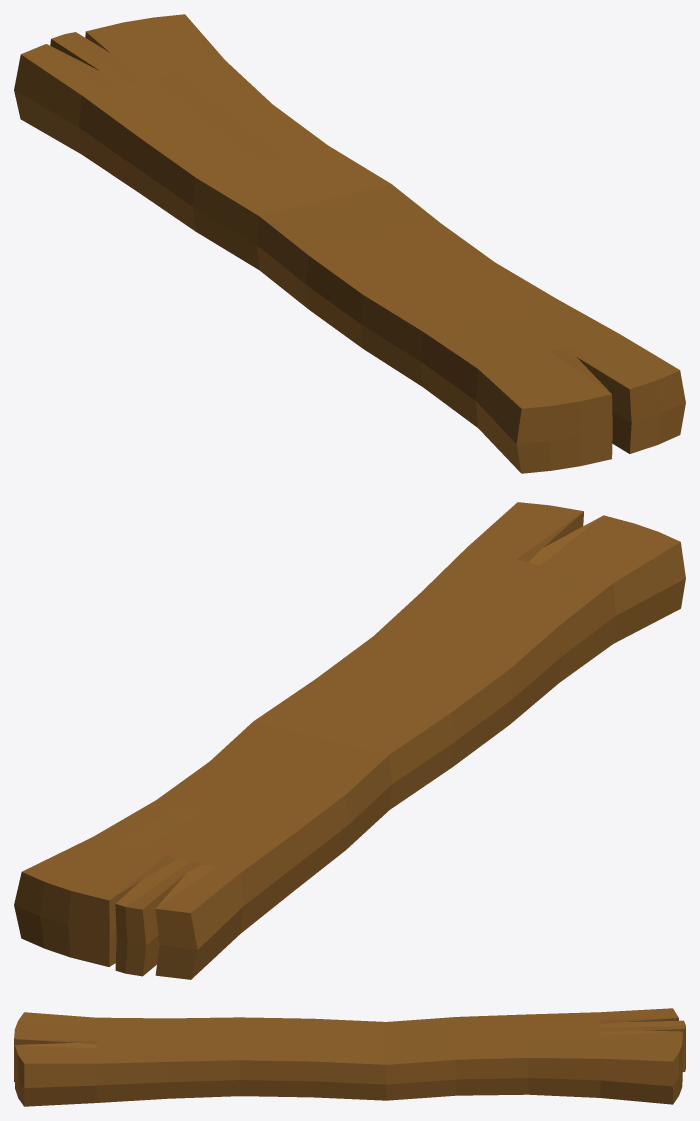
The model's file is plank_3.fbx.
The picture shows the model from 3 angles, top to bottom: view 1: azimuth 30°, elevation 25°; view 2: azimuth 150°, elevation 25°; view 3: azimuth 270°, elevation 25°; orthographic projection. The views are drawn at different scales.
Parts seen in each view (by area): view 1: Cube; view 2: Cube; view 3: Cube.
Boxes of the visible parts, x1,y1,x2,y2 form: Cube: [14, 14, 685, 473]; Cube: [14, 502, 685, 979]; Cube: [14, 1008, 685, 1106].
Bounding box in the file's own units: 45.54 × 15.4 × 217.
